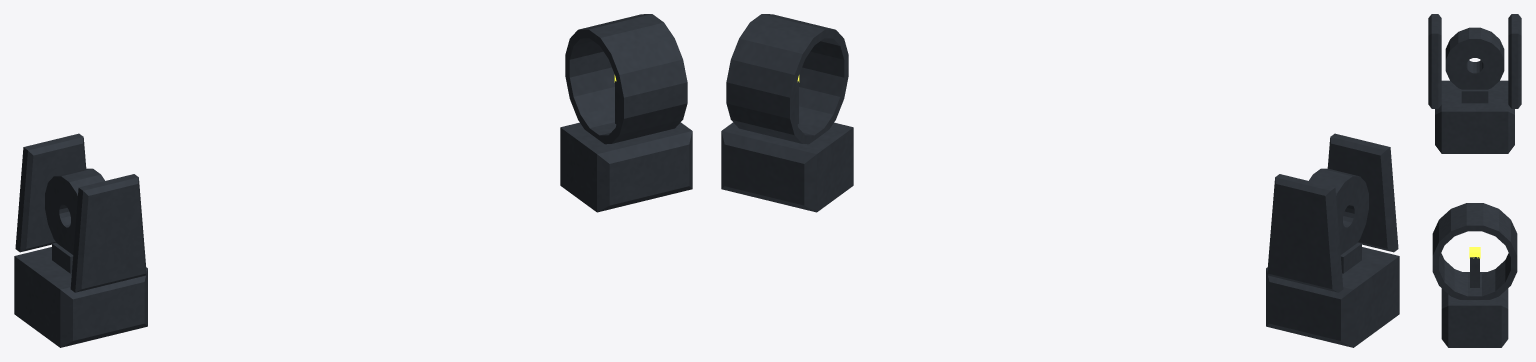
The model's file is sight_iron_v2.glb.
3 renders of one model, left to right at view 1: azimuth 30°, elevation 25°; view 2: azimuth 150°, elevation 25°; view 3: azimuth 270°, elevation 25°, orthographic. The views are drawn at different scales.
Visible parts, largest first — view 1: sight_iron_mesh; view 2: sight_iron_mesh; view 3: sight_iron_mesh.
Boxes of the visible parts, box(x1,y1,x2,y2) form: sight_iron_mesh: box(14, 14, 692, 347); sight_iron_mesh: box(721, 14, 1399, 347); sight_iron_mesh: box(1428, 14, 1521, 347).
Size of the model in its own units: 0.16 by 0.0388 by 0.028.
Materials: 2 (1 with a texture image).
